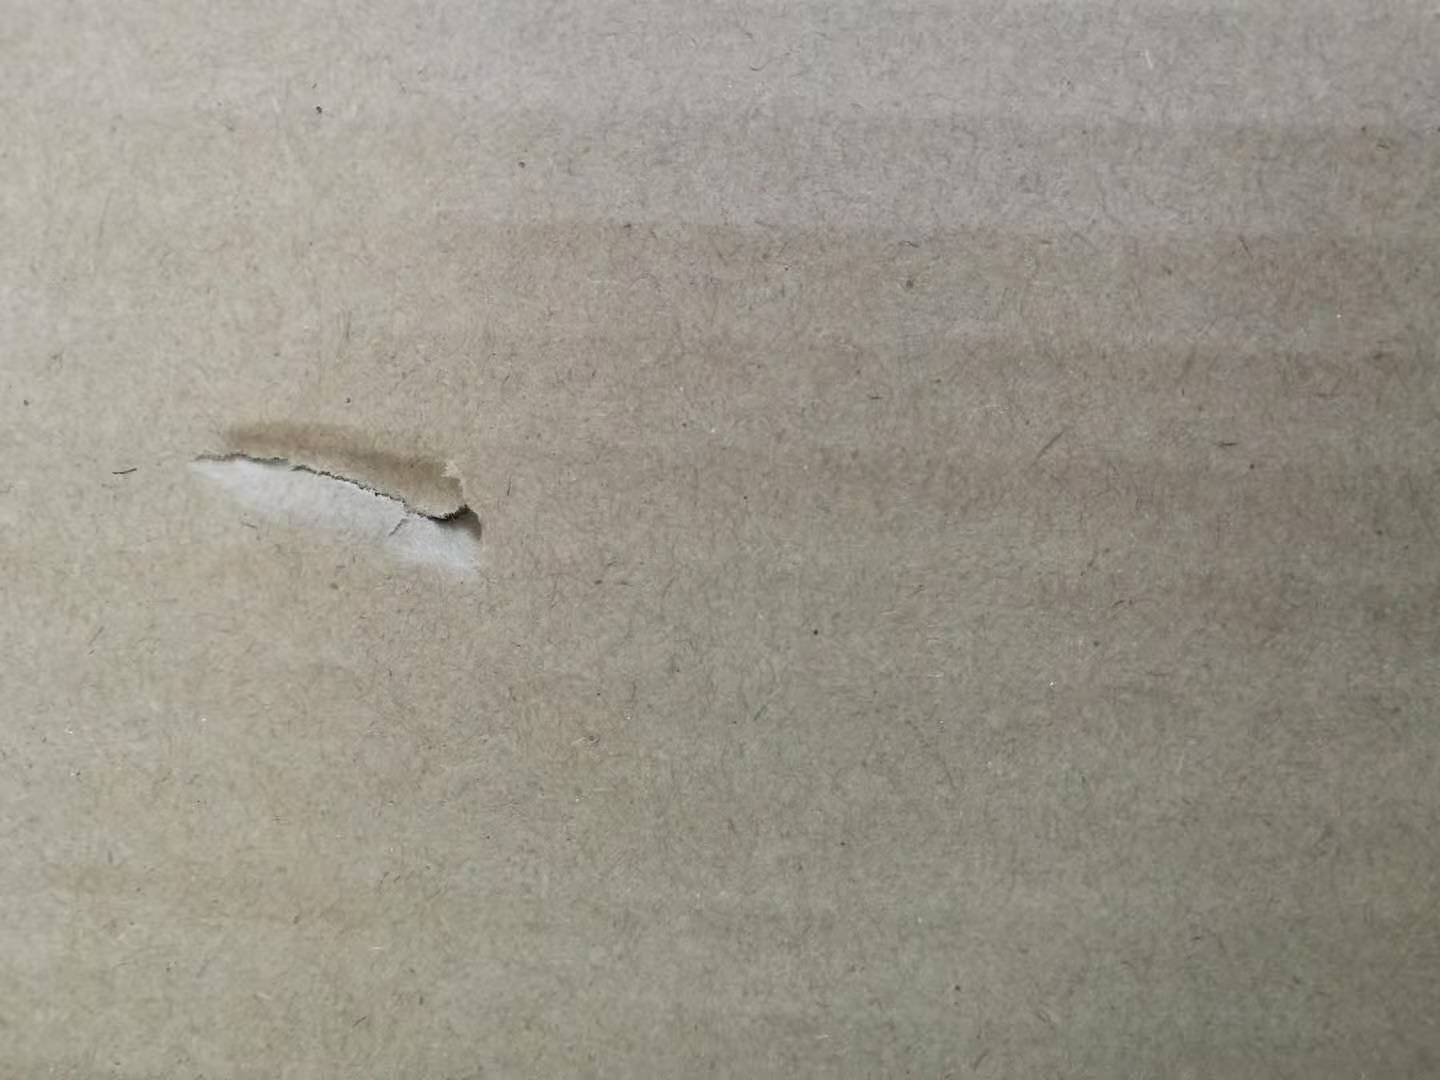defect: (158, 378, 526, 615)
